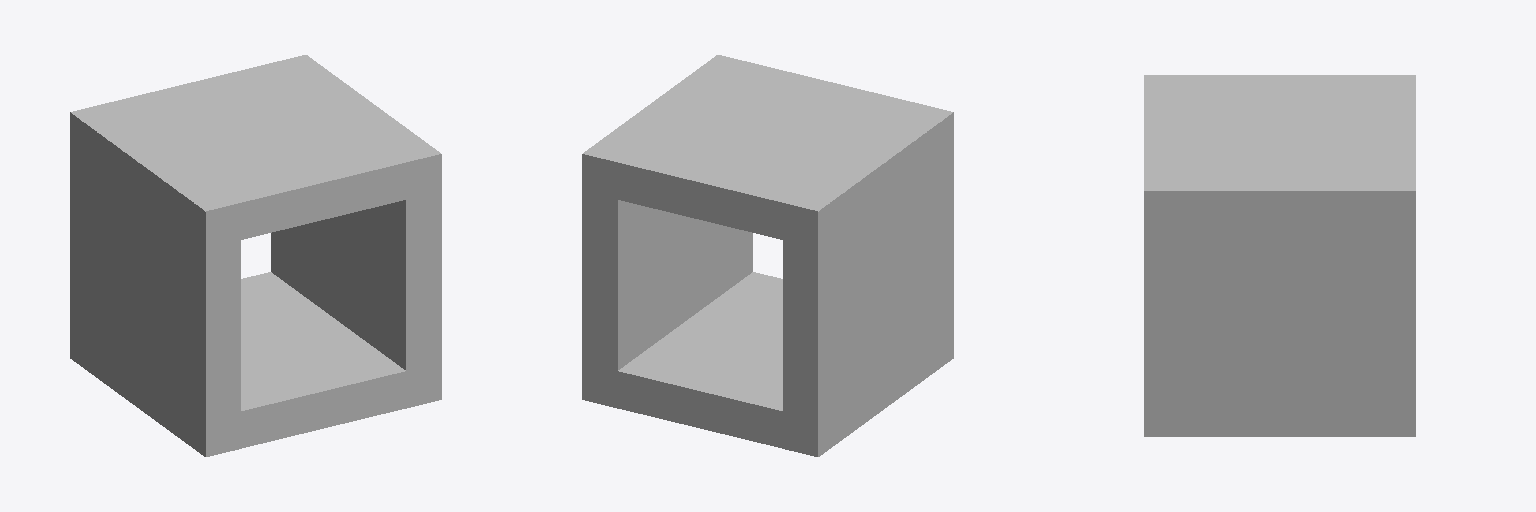
The model's file is Gate.obj.
The picture shows the model from 3 angles: view 1: azimuth 30°, elevation 25°; view 2: azimuth 150°, elevation 25°; view 3: azimuth 270°, elevation 25°; orthographic projection.
Parts seen in each view (by area): view 1: Cube.004; view 2: Cube.004; view 3: Cube.004.
Part boxes in pixels (x1,y1,x2,y2): Cube.004: (70, 55, 441, 456); Cube.004: (582, 55, 953, 456); Cube.004: (1144, 75, 1415, 436).
Bounding box in the file's own units: 2.01 × 2 × 2.